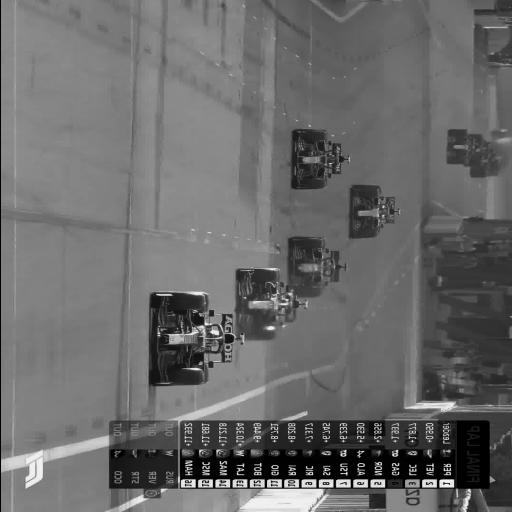f1_car: (150, 291, 244, 387), (236, 268, 307, 341), (288, 237, 347, 297), (292, 129, 349, 190), (349, 185, 400, 239), (466, 142, 508, 178), (447, 129, 481, 165), (463, 134, 491, 167)
